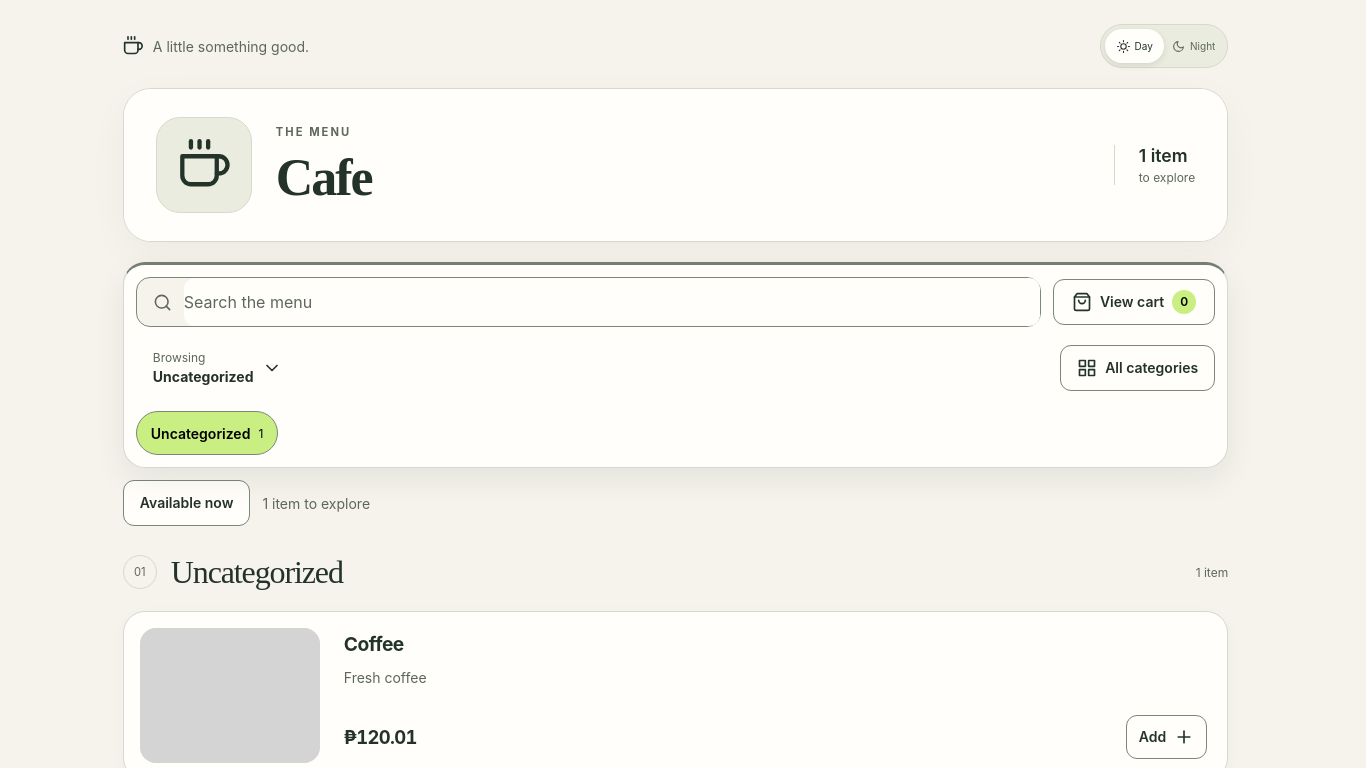
keeps an unavailable product separate from a retryable connection failure
Click the button with aria-label "Add Coffee". click: (1166,737)
box: [1126,715,1207,759]
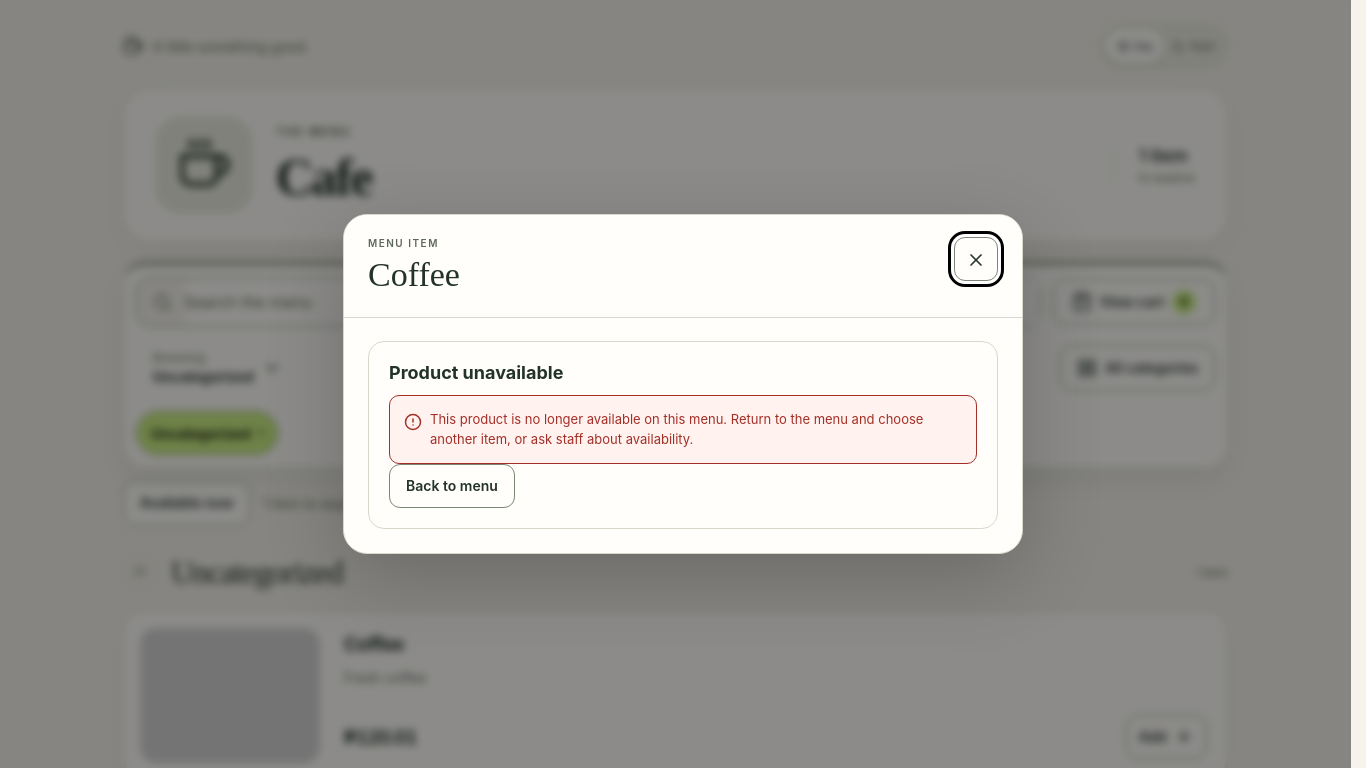
Result: the message shows "no longer available" at [430,411,923,446]
Click the button "Back to menu". click: (452,486)
box: [389,464,515,508]
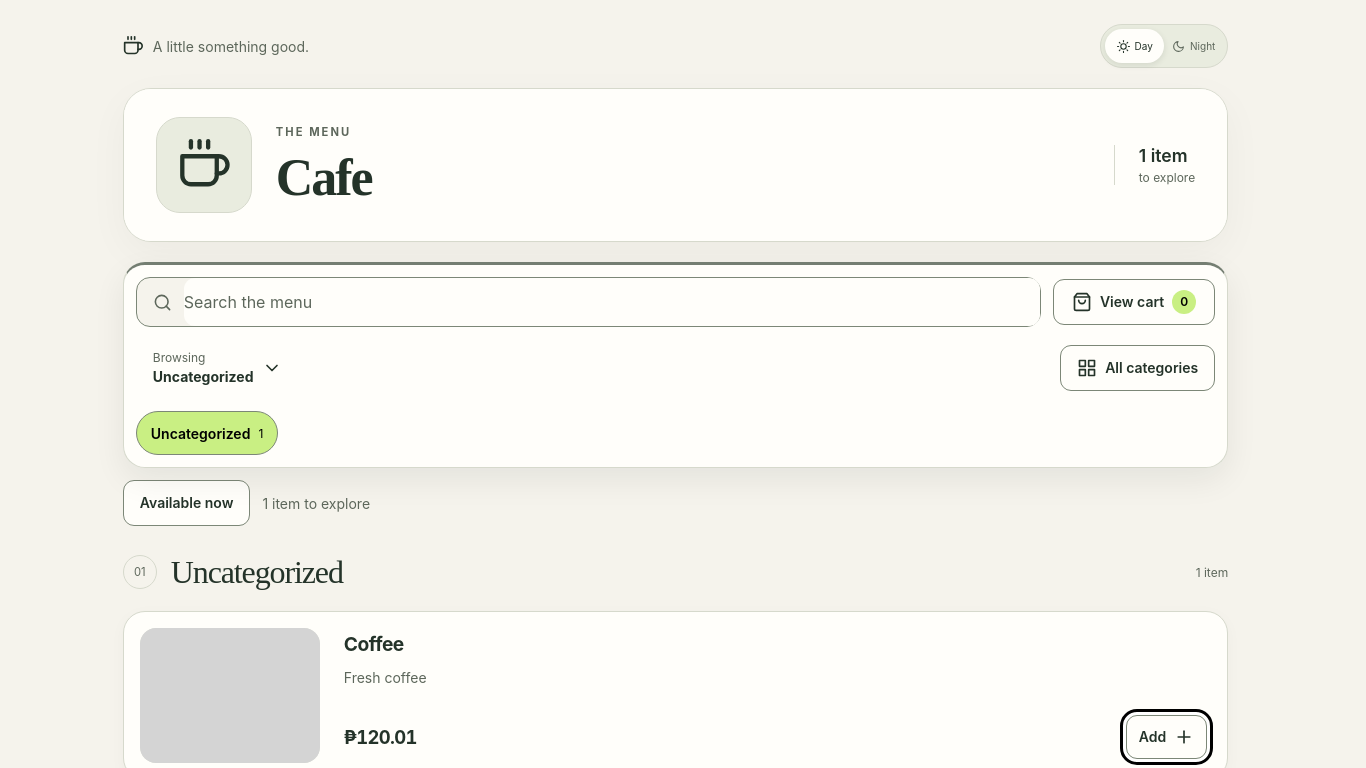
Result: the dialog is gone
